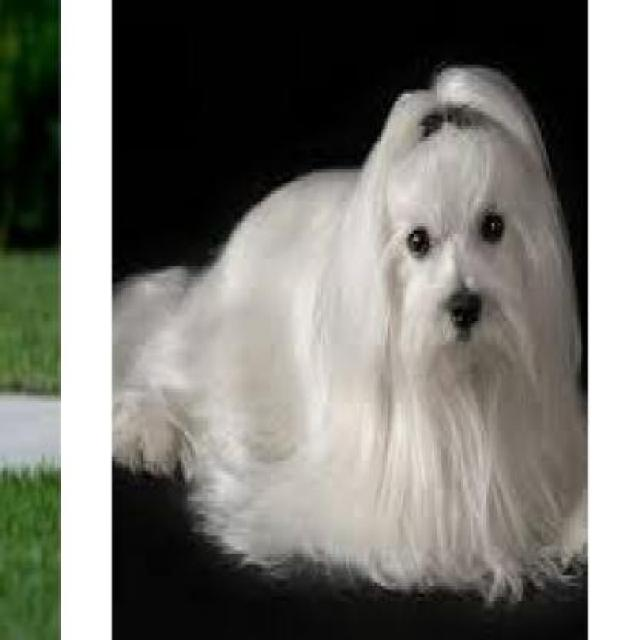Dog: (117, 57, 580, 637)
